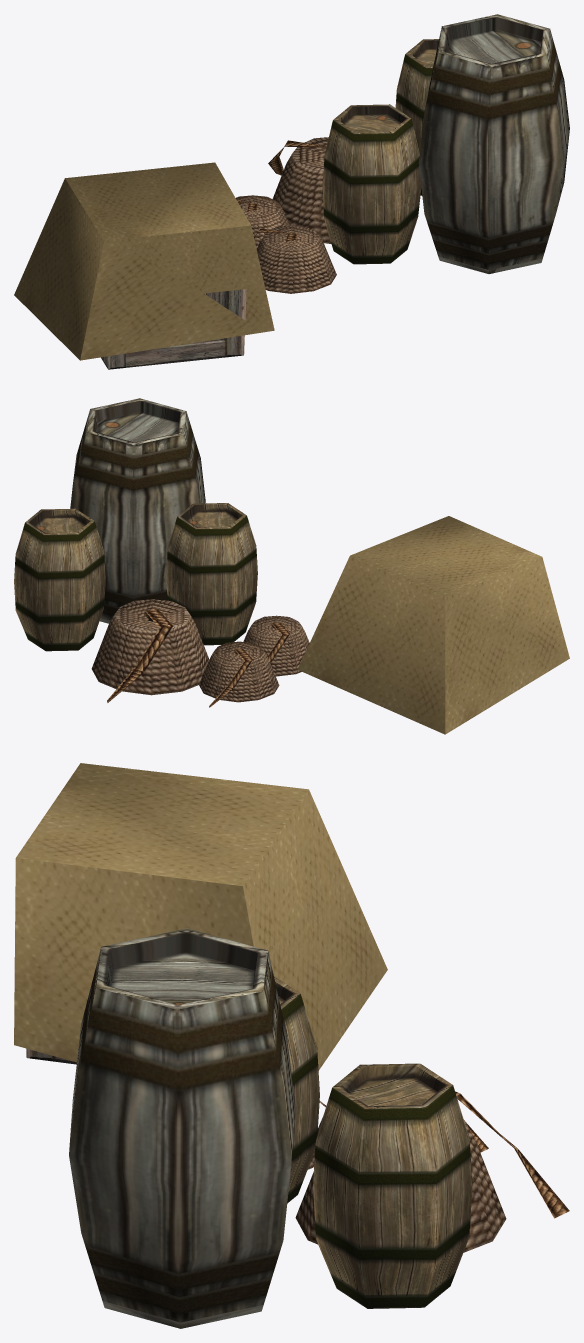
File: prop_group_H.fbx
3 renders of one model, top to bottom at view 1: azimuth 30°, elevation 25°; view 2: azimuth 150°, elevation 25°; view 3: azimuth 270°, elevation 25°, orthographic. The views are drawn at different scales.
Parts seen in each view (by area): view 1: net_col1_high, barrel_high, barrel_high1, pile_1.001, pile_1.002, polySurface1, barrel_high2, pile_1; view 2: net_col1_high, barrel_high, barrel_high2, barrel_high1, pile_1.002, pile_1, pile_1.001, rope_1.002, rope_1; view 3: barrel_high, net_col1_high, barrel_high2, barrel_high1, pile_1.002, rope_1.002.
Part boxes in pixels (bbox=[...]): net_col1_high: bbox=[14, 162, 274, 360]; barrel_high: bbox=[418, 14, 569, 273]; barrel_high1: bbox=[322, 104, 421, 264]; pile_1.001: bbox=[256, 225, 336, 293]; pile_1.002: bbox=[272, 137, 331, 243]; polySurface1: bbox=[101, 289, 246, 369]; barrel_high2: bbox=[395, 39, 438, 195]; pile_1: bbox=[236, 195, 289, 248]; net_col1_high: bbox=[297, 516, 569, 734]; barrel_high: bbox=[70, 398, 205, 623]; barrel_high2: bbox=[14, 508, 105, 651]; barrel_high1: bbox=[166, 503, 257, 645]; pile_1.002: bbox=[91, 599, 209, 695]; pile_1: bbox=[199, 641, 279, 702]; pile_1.001: bbox=[243, 615, 309, 676]; rope_1.002: bbox=[107, 609, 172, 702]; rope_1: bbox=[209, 648, 252, 707]; barrel_high: bbox=[69, 928, 295, 1328]; net_col1_high: bbox=[14, 763, 387, 1070]; barrel_high2: bbox=[313, 1063, 472, 1308]; barrel_high1: bbox=[274, 976, 319, 1203]; pile_1.002: bbox=[295, 1119, 506, 1252]; rope_1.002: bbox=[455, 1091, 569, 1218].
Size of the model in its own units: 1695 by 645 by 1008.
Materials: 2 (2 with a texture image).
